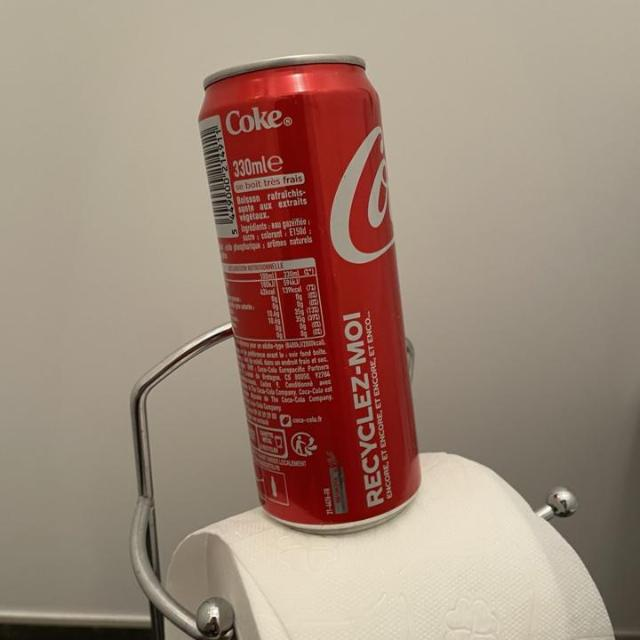can: (189, 51, 459, 570)
